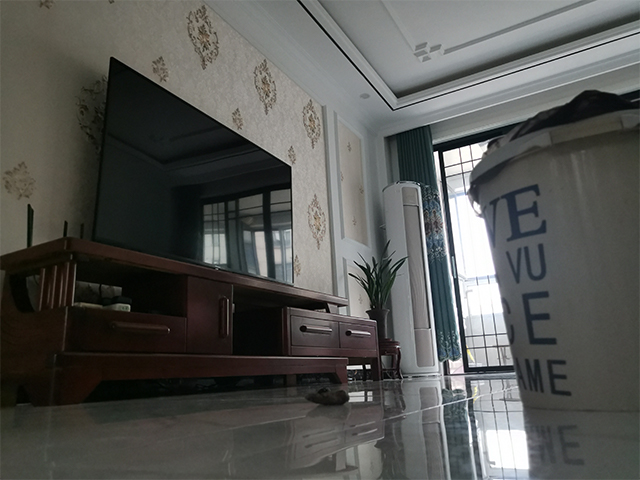cabinet: (1, 233, 386, 407)
curtain: (394, 124, 464, 363)
feces: (303, 386, 351, 407)
stool: (361, 339, 404, 381)
trashcan: (465, 86, 640, 417)
